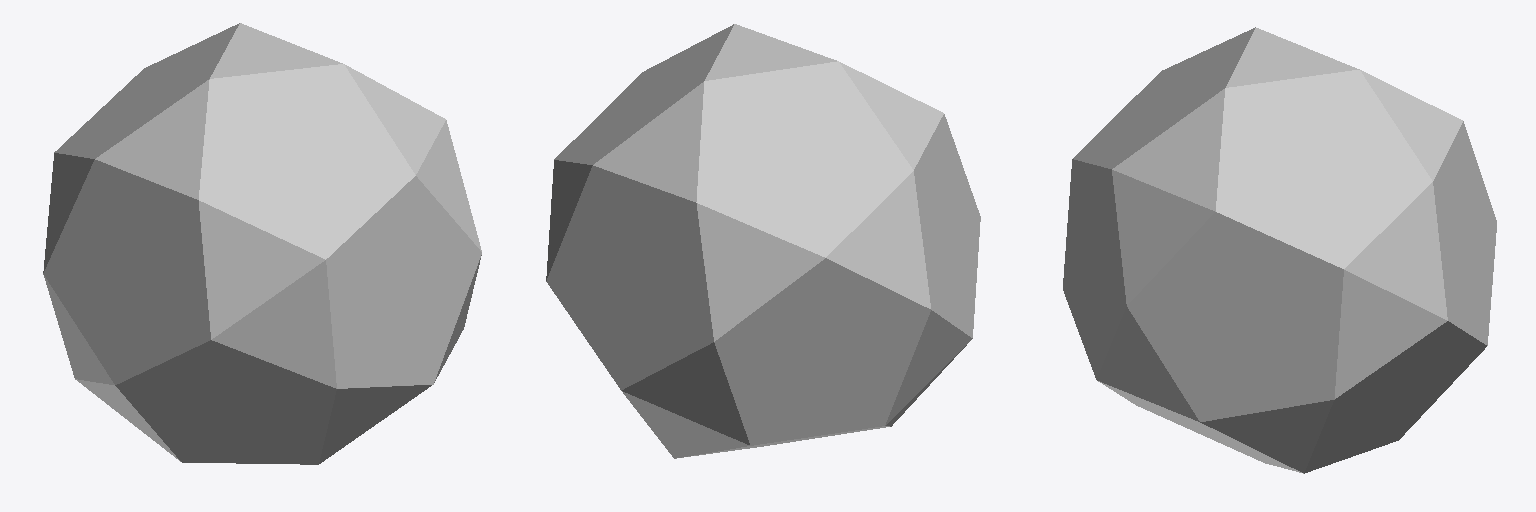
Rendered from PentagonalOrthoBiRotunda.obj.
The picture shows the model from 3 angles: view 1: azimuth 30°, elevation 25°; view 2: azimuth 150°, elevation 25°; view 3: azimuth 270°, elevation 25°; orthographic projection.
Visible parts, largest first — view 1: PentagonalOrthoBiRotunda; view 2: PentagonalOrthoBiRotunda; view 3: PentagonalOrthoBiRotunda.
Part boxes in pixels (bbox=[...]): PentagonalOrthoBiRotunda: bbox=[43, 23, 481, 464]; PentagonalOrthoBiRotunda: bbox=[546, 24, 980, 458]; PentagonalOrthoBiRotunda: bbox=[1063, 27, 1496, 473].
Bounding box in the file's own units: 2.31 × 2.35 × 2.31.